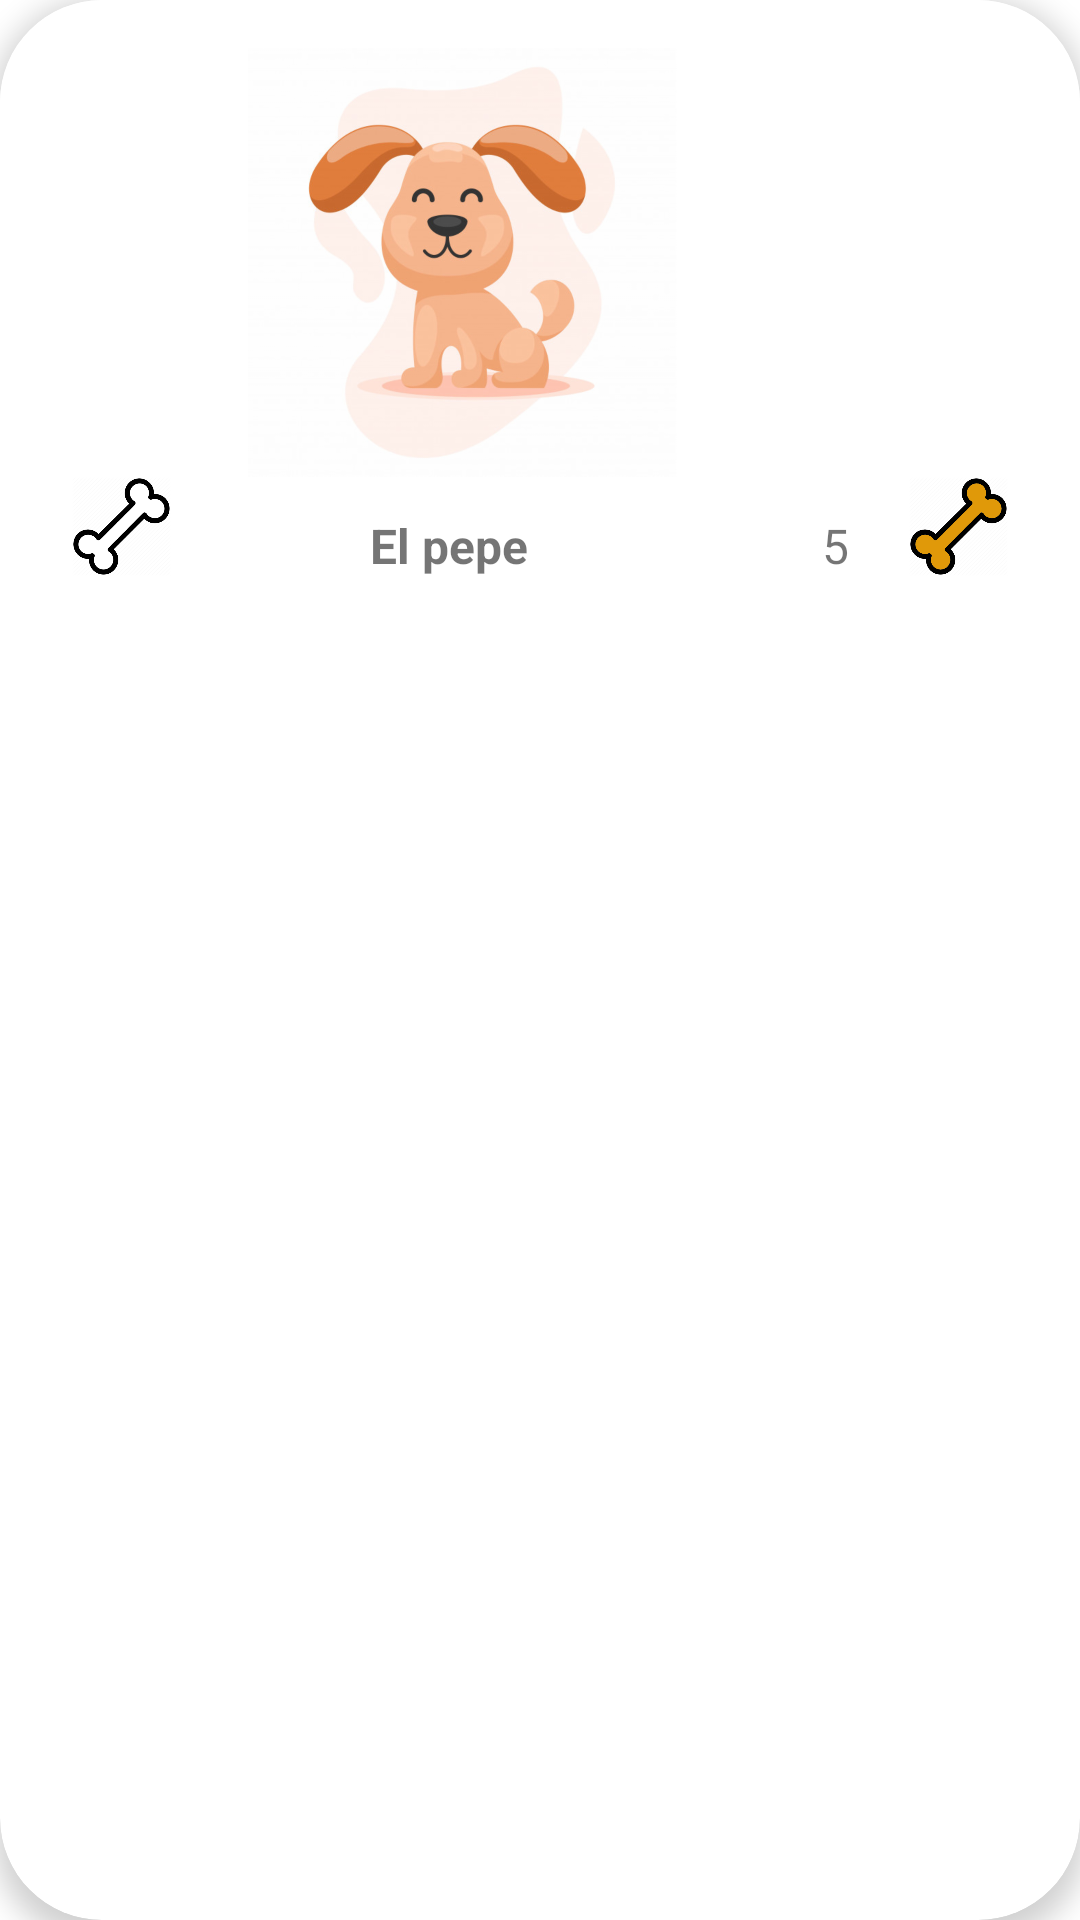

Icon click points for this 1080×1920 phone screenshot, format point (x, y):
Imagen de un hueso: point (121, 526)
Imagen de un hueso dorado: point (958, 526)
Imagen de un perro: point (451, 262)
